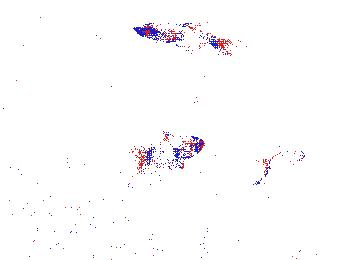redtail glassfish: (134, 18, 236, 60), (141, 129, 209, 169), (262, 144, 307, 185)
